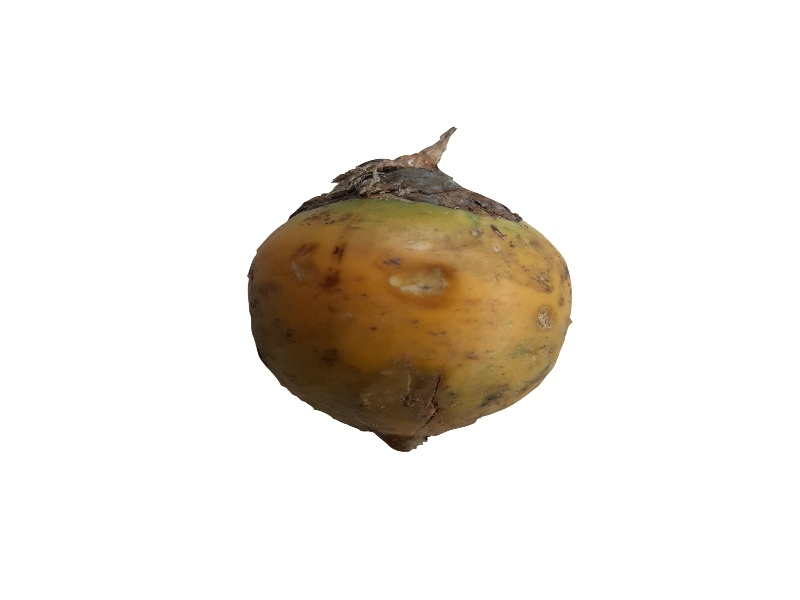arecanut: (229, 164, 588, 458)
